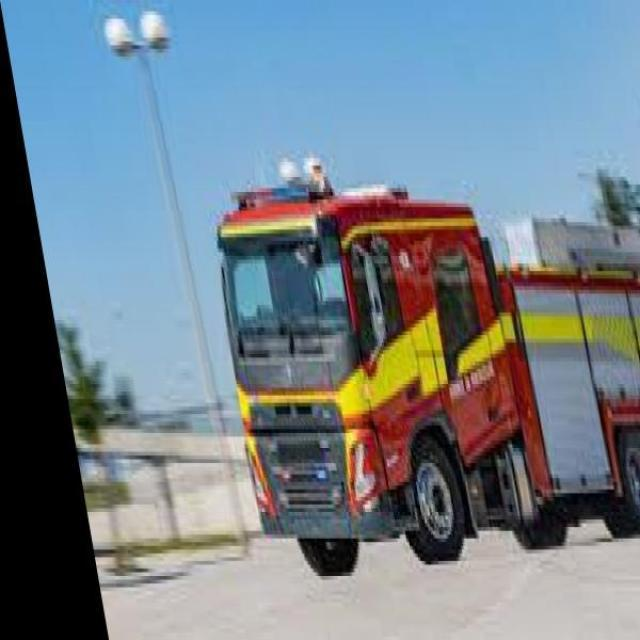emergency: (214, 152, 638, 576)
